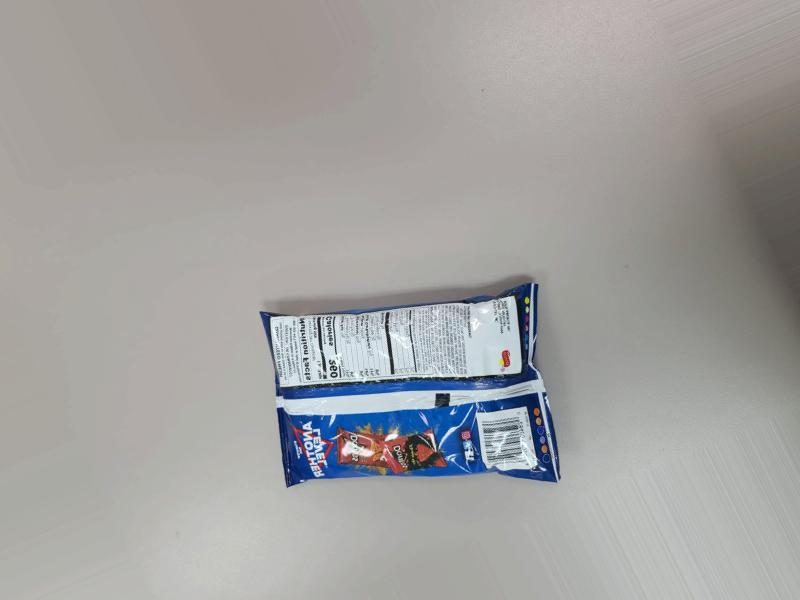doritos: (227, 256, 533, 495)
